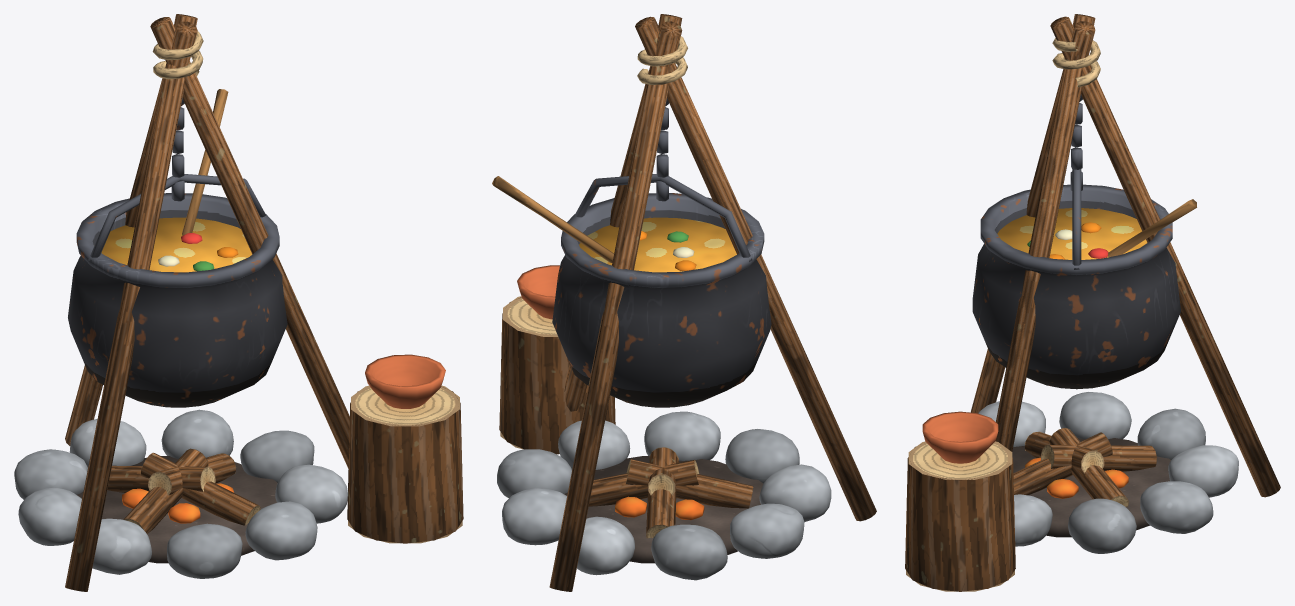
Rendered from cook_pot.glb.
3 renders of one model, left to right at view 1: azimuth 30°, elevation 25°; view 2: azimuth 150°, elevation 25°; view 3: azimuth 270°, elevation 25°, orthographic. The views are drawn at different scales.
Parts seen in each view (by area): view 1: CookPot; view 2: CookPot; view 3: CookPot.
Boxes of the visible parts, x1,y1,x2,y2 form: CookPot: (14,14,463,591); CookPot: (492,14,876,591); CookPot: (905,14,1280,591).
Bounding box in the file's own units: 1.5 × 1.9 × 1.36.
1 material, 1 textured.
